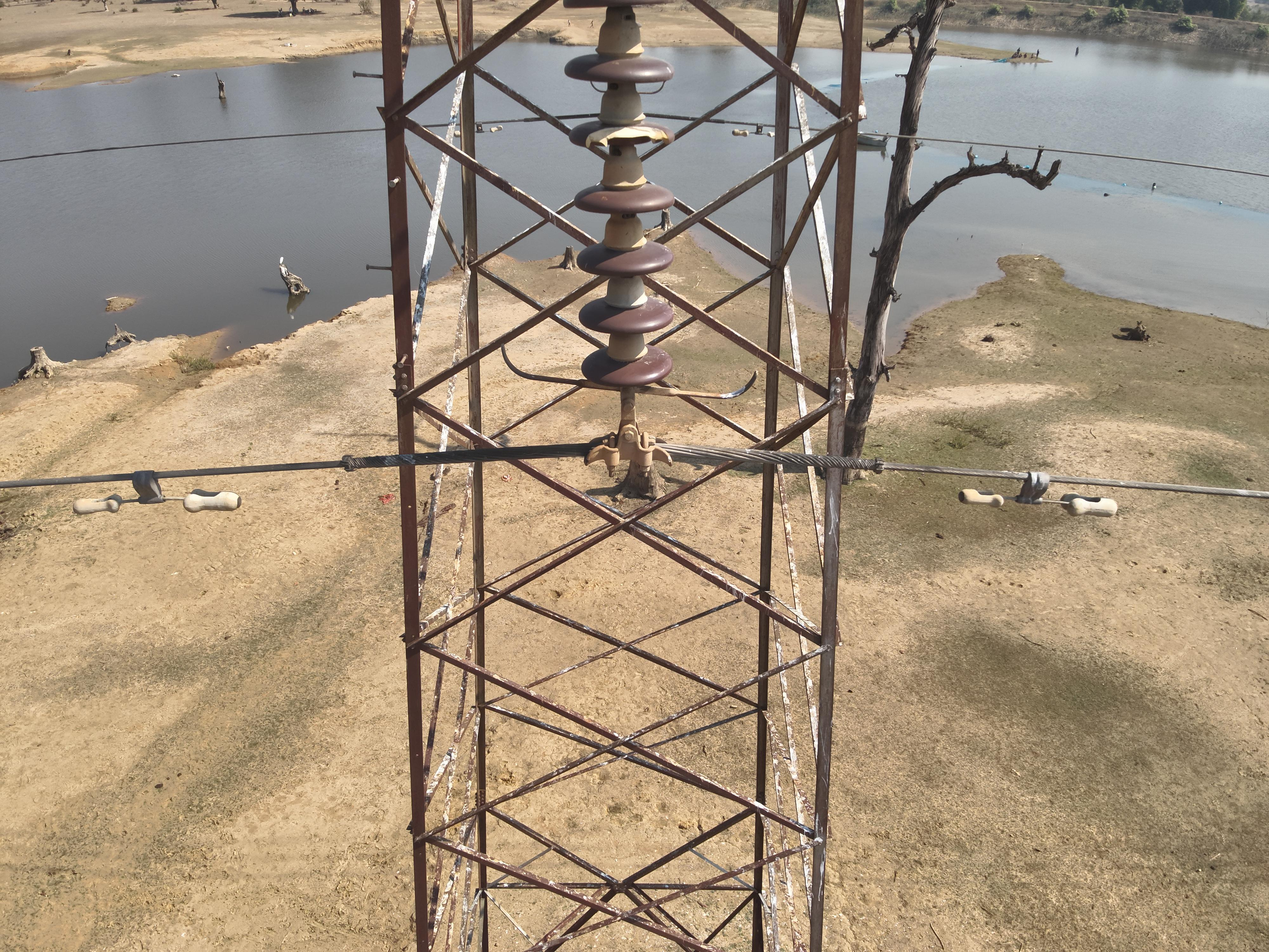broken_insulator: (568, 120, 676, 150)
